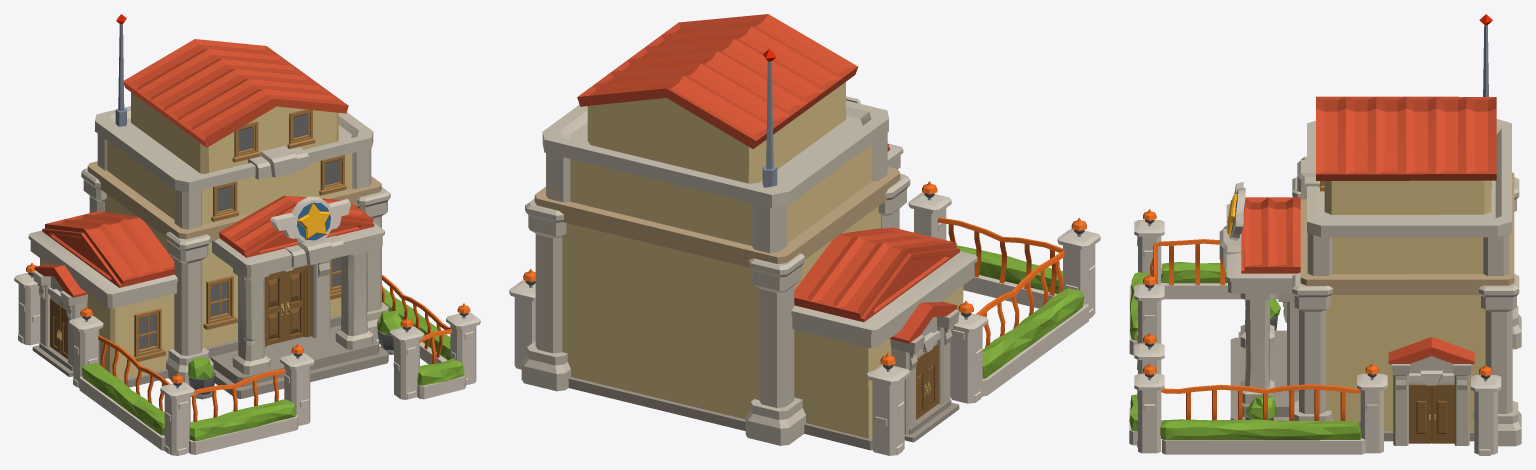
Rendered from Build_Home03.FBX.
3 renders of one model, left to right at view 1: azimuth 30°, elevation 25°; view 2: azimuth 150°, elevation 25°; view 3: azimuth 270°, elevation 25°, orthographic. The views are drawn at different scales.
Visible parts, largest first — view 1: Build_Home03; view 2: Build_Home03; view 3: Build_Home03.
Part boxes in pixels (left/top/right/bottom): Build_Home03: left=14, top=14, right=480, bottom=455; Build_Home03: left=509, top=14, right=1100, bottom=455; Build_Home03: left=1129, top=14, right=1521, bottom=455.
Size of the model in its own units: 587 by 541 by 577.
